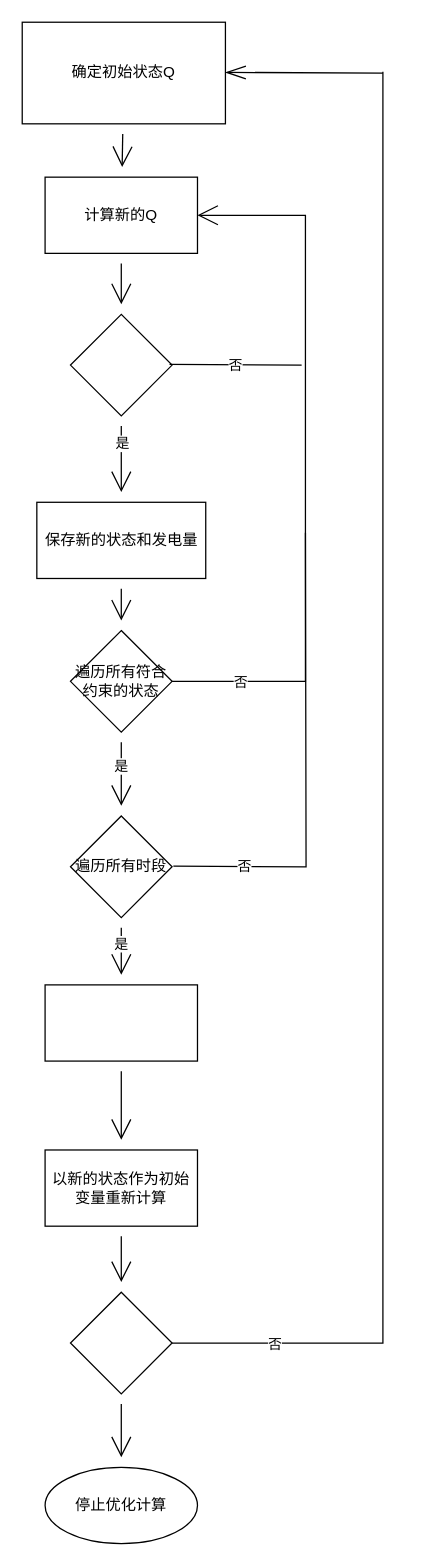
The diagram is 425 pixels wide and 1566 high, and some of its shapes have lost their labels. The centre of each missing label's shape, as x and y in pixels:
"保存优化后的Q和S" goes at point 120,1022.
"发电量是否增加" goes at point 120,364.
"精度是否达到要求" goes at point 120,1342.
